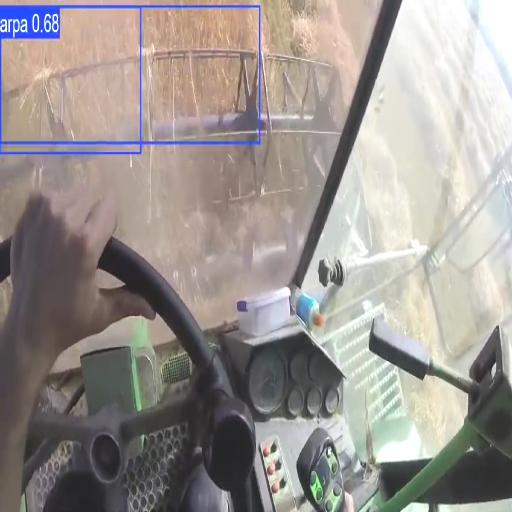arpa: (0, 7, 259, 160), (261, 0, 360, 124)
